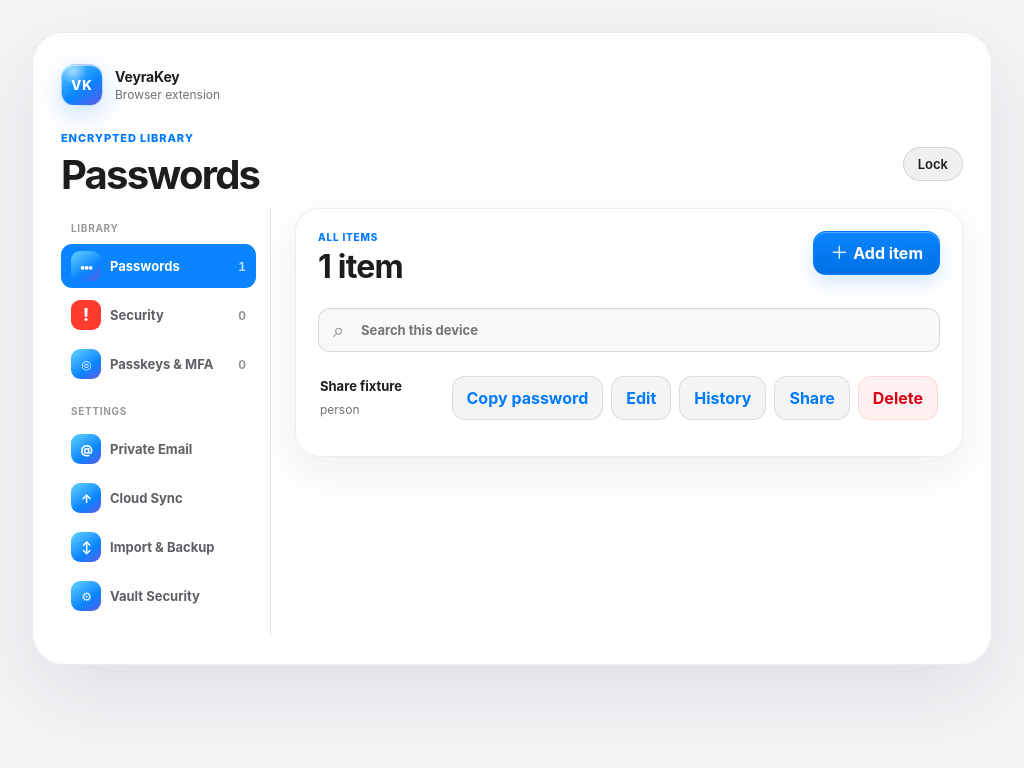
Test: VaultScreen › keeps an encrypted item share separate from its out-of-band secret
Expected: the text "Share fixture" is shown, [320,378,402,394]
Click the button "Share" at (812, 398), box [774,376,850,420]
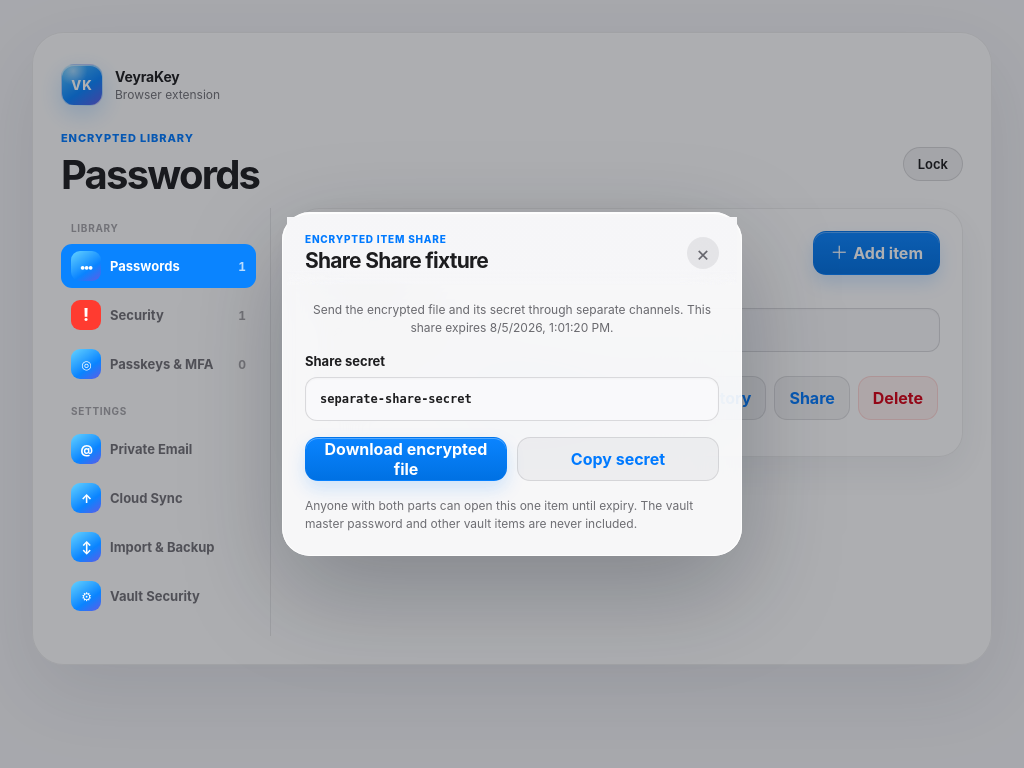
Expected: the dialog "Share Share fixture" is shown, [282,212,742,556]
Expected: the text "separate channels" is shown, [313,302,711,335]
